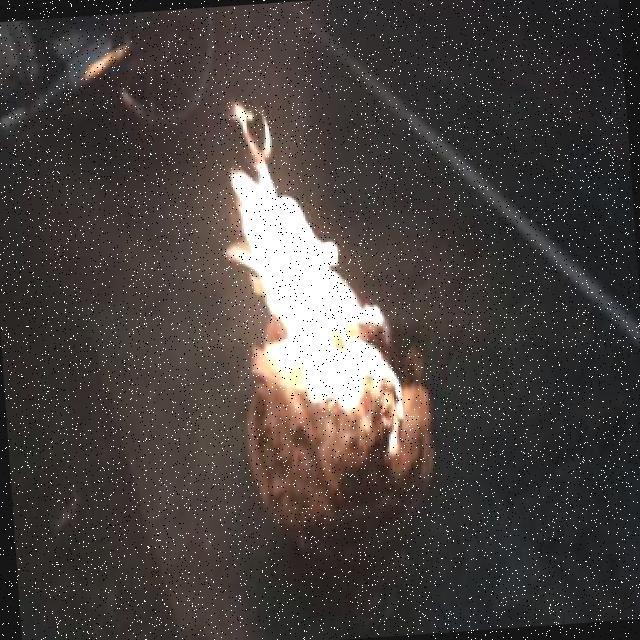Fire: (207, 97, 417, 481)
